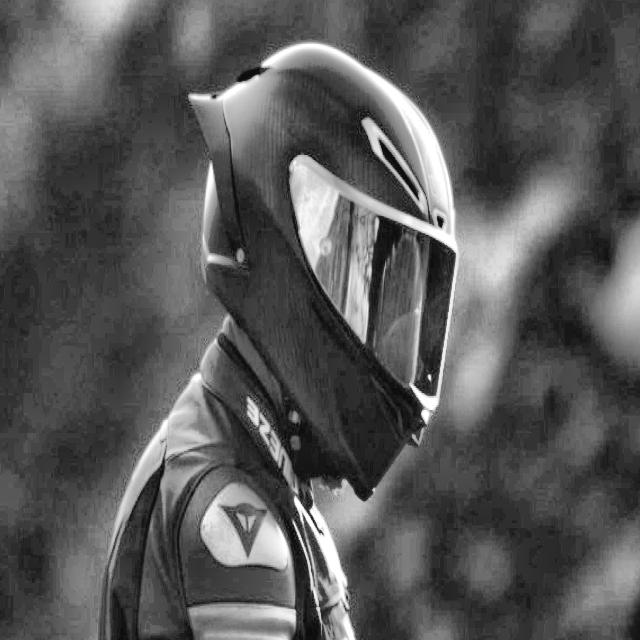Helmet: (191, 35, 465, 497)
